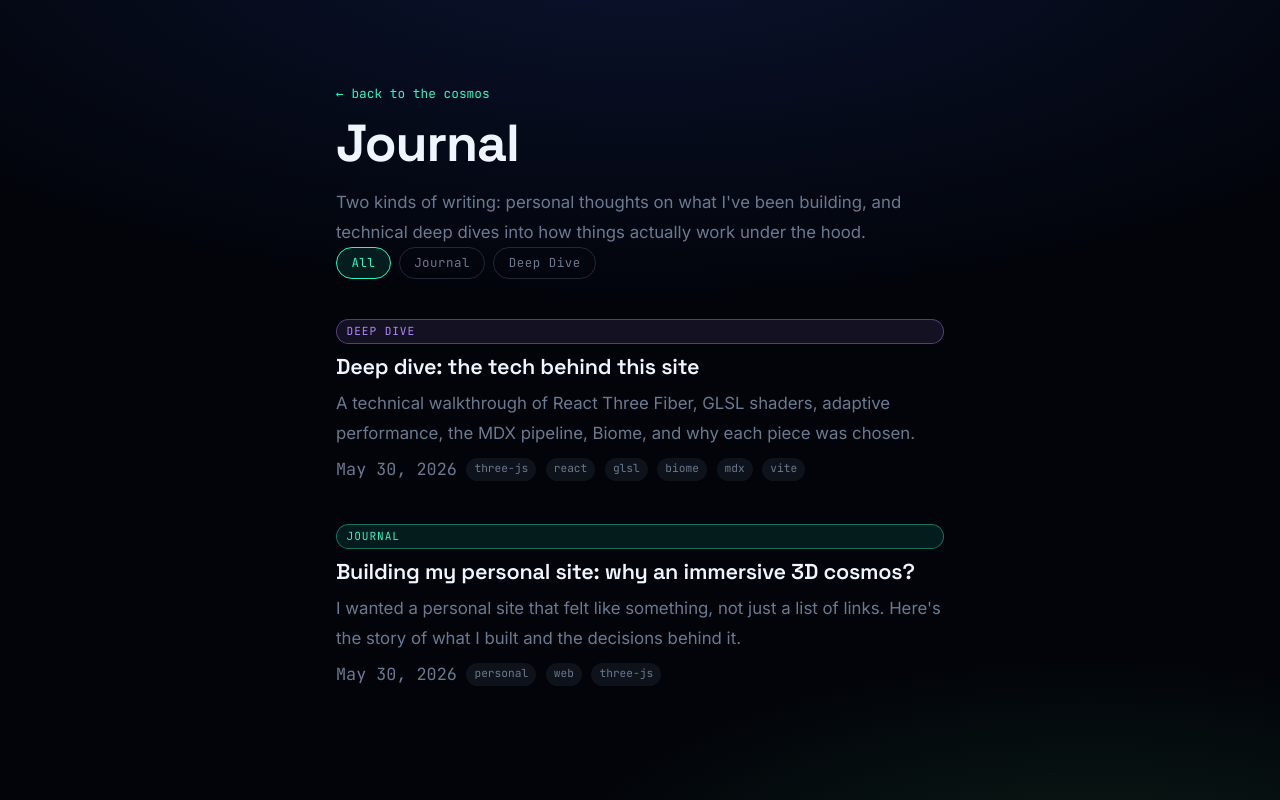
Test: <Blog /> › filters to only deep-dive posts when Deep Dive is pressed
Click the button "Deep Dive" at (545, 263), box [493,247,596,279]
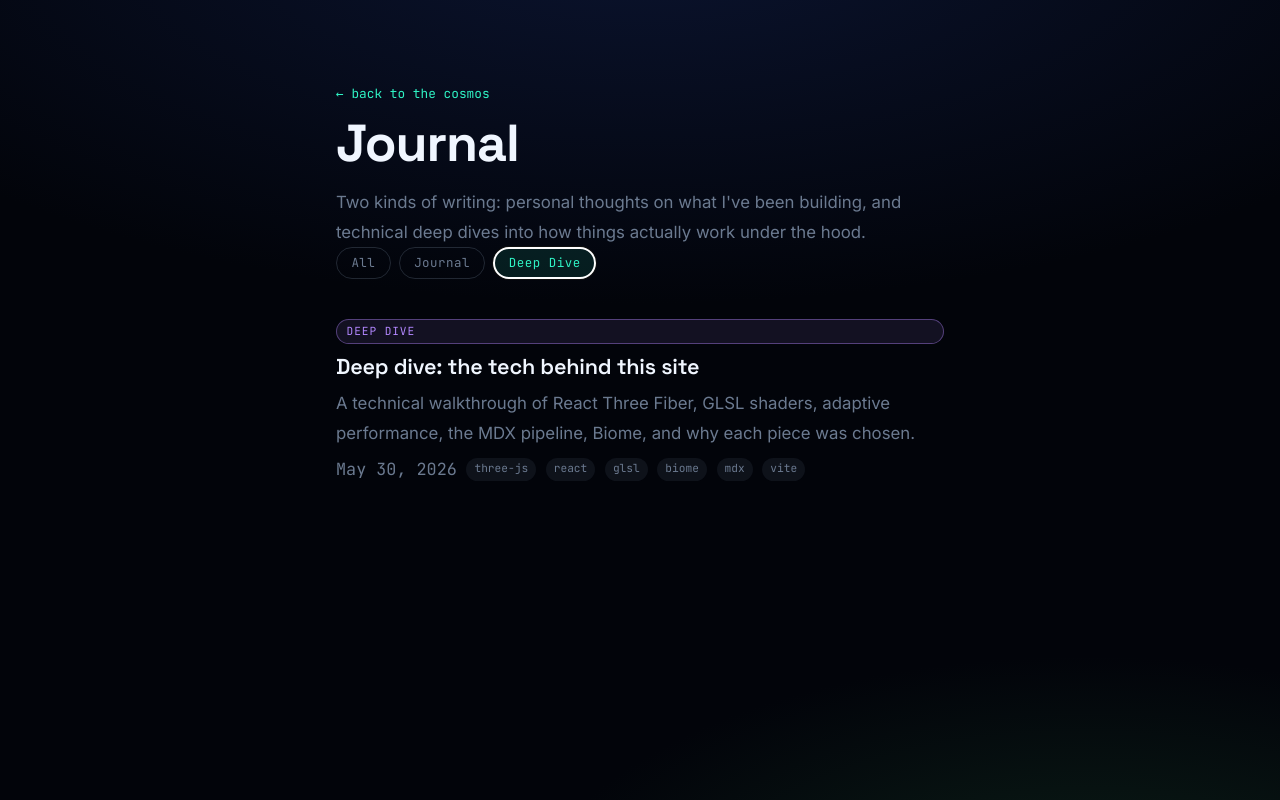
Now the number of list items is 1, box [336,319,944,484]
